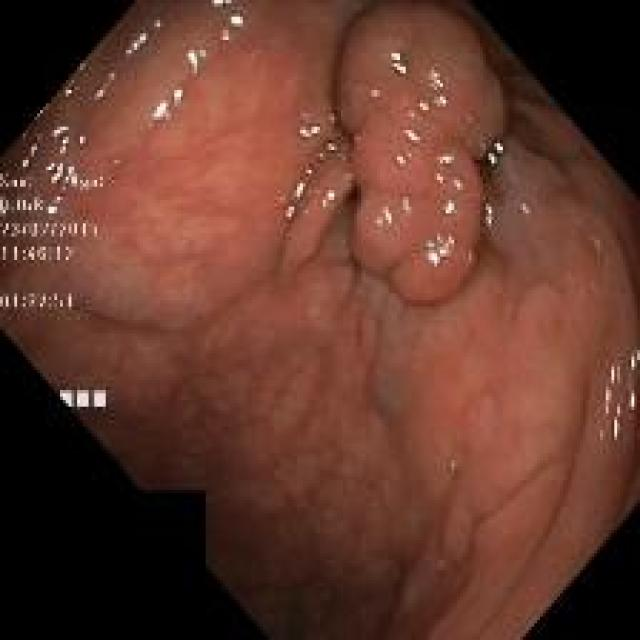Polyps: (338, 4, 506, 306)
